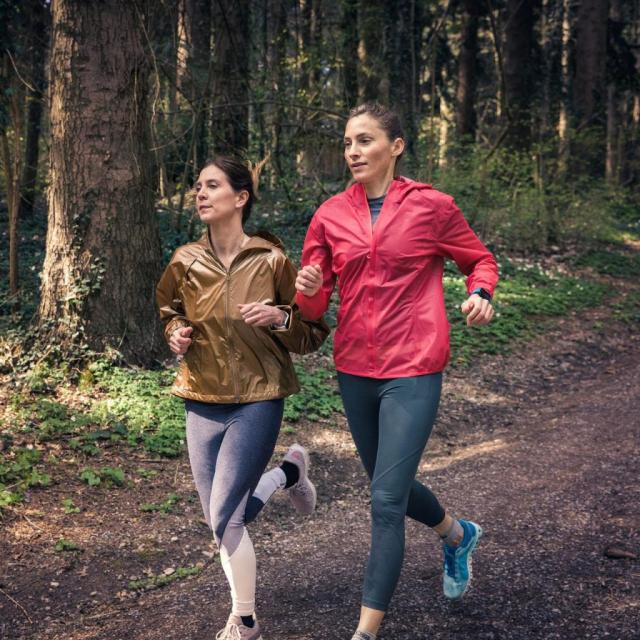Person: (295, 98, 499, 640), (156, 155, 330, 640)
